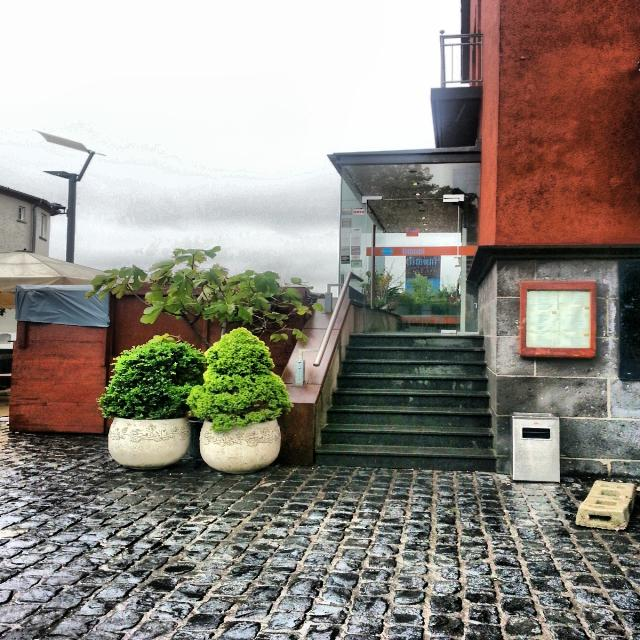escada: (315, 340, 498, 468)
